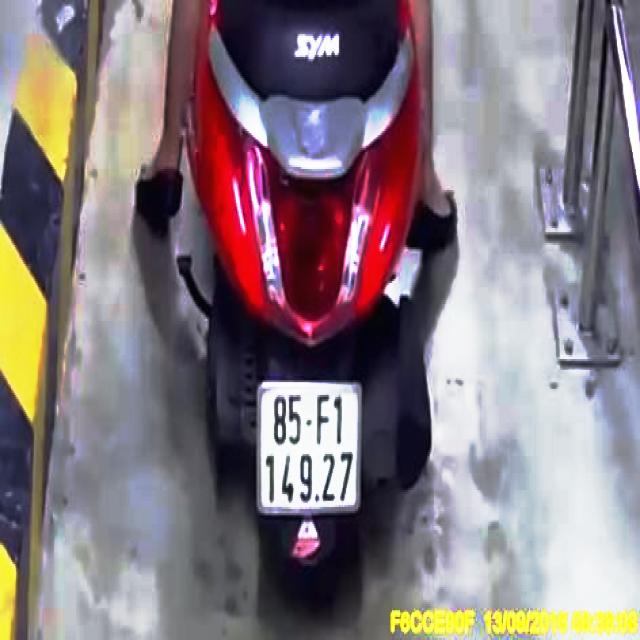license_plate: (261, 386, 362, 510)
